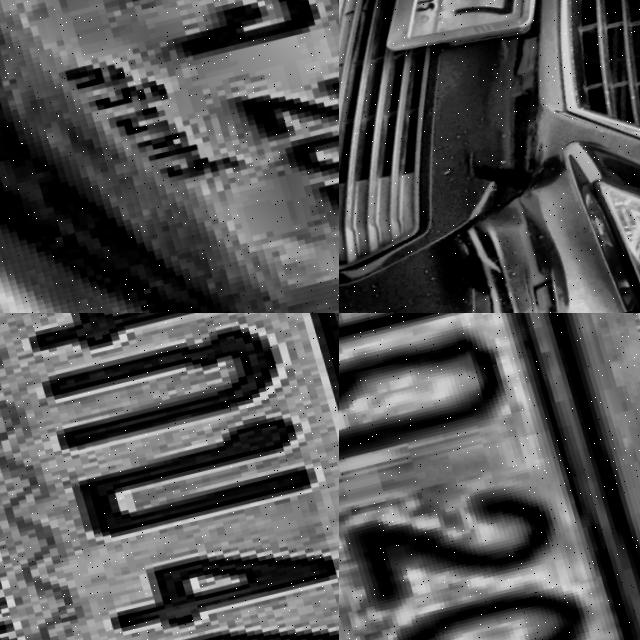license-plate: (0, 313, 339, 640), (0, 0, 339, 313), (339, 313, 640, 640), (339, 0, 592, 63)
